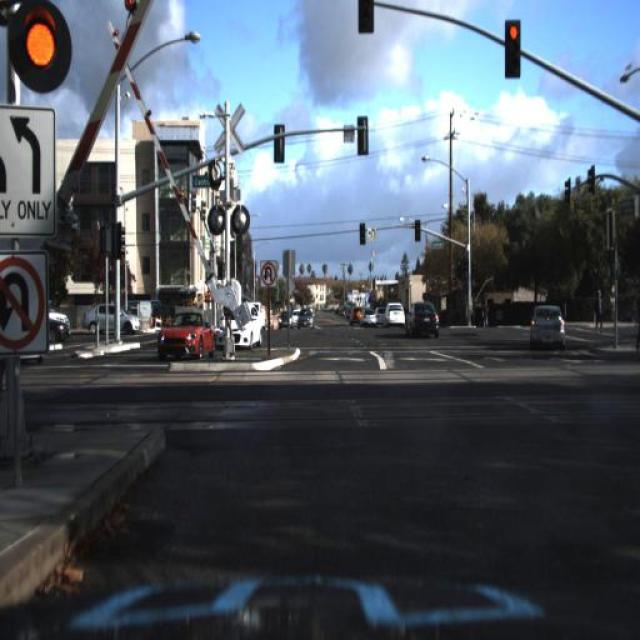car: (526, 290, 573, 362), (153, 308, 214, 362), (78, 302, 143, 342), (403, 290, 446, 345), (220, 303, 266, 351), (380, 293, 412, 336), (36, 316, 70, 346), (358, 300, 384, 332), (44, 324, 68, 357), (384, 298, 410, 328), (274, 303, 297, 328), (47, 310, 73, 330), (294, 304, 314, 330), (359, 306, 379, 329), (346, 302, 362, 328), (274, 308, 291, 331), (348, 302, 360, 329)
trafficLight: (590, 282, 606, 343), (593, 284, 608, 334), (478, 290, 494, 331)
trafficLight-Green: (503, 18, 521, 78), (356, 210, 372, 250), (412, 214, 422, 242)
trafficLight-GreenLeft: (459, 250, 470, 282)
trafficLight-RedLeft: (0, 0, 105, 100), (496, 12, 529, 87)
